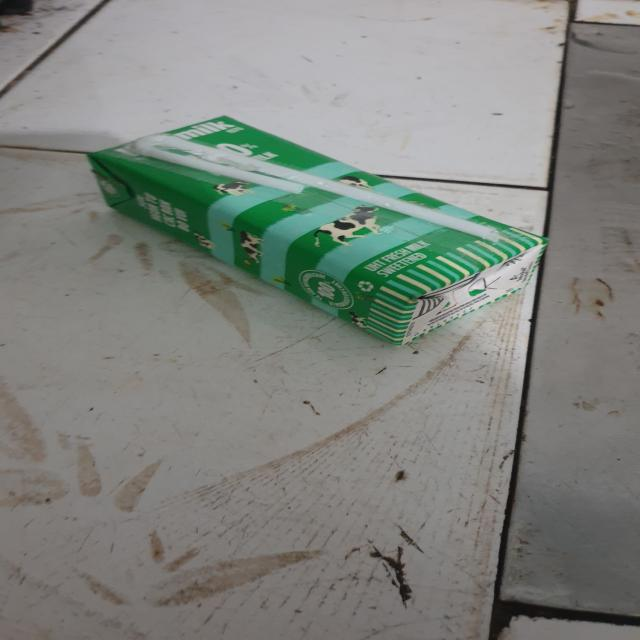Vina: (91, 115, 543, 349)
